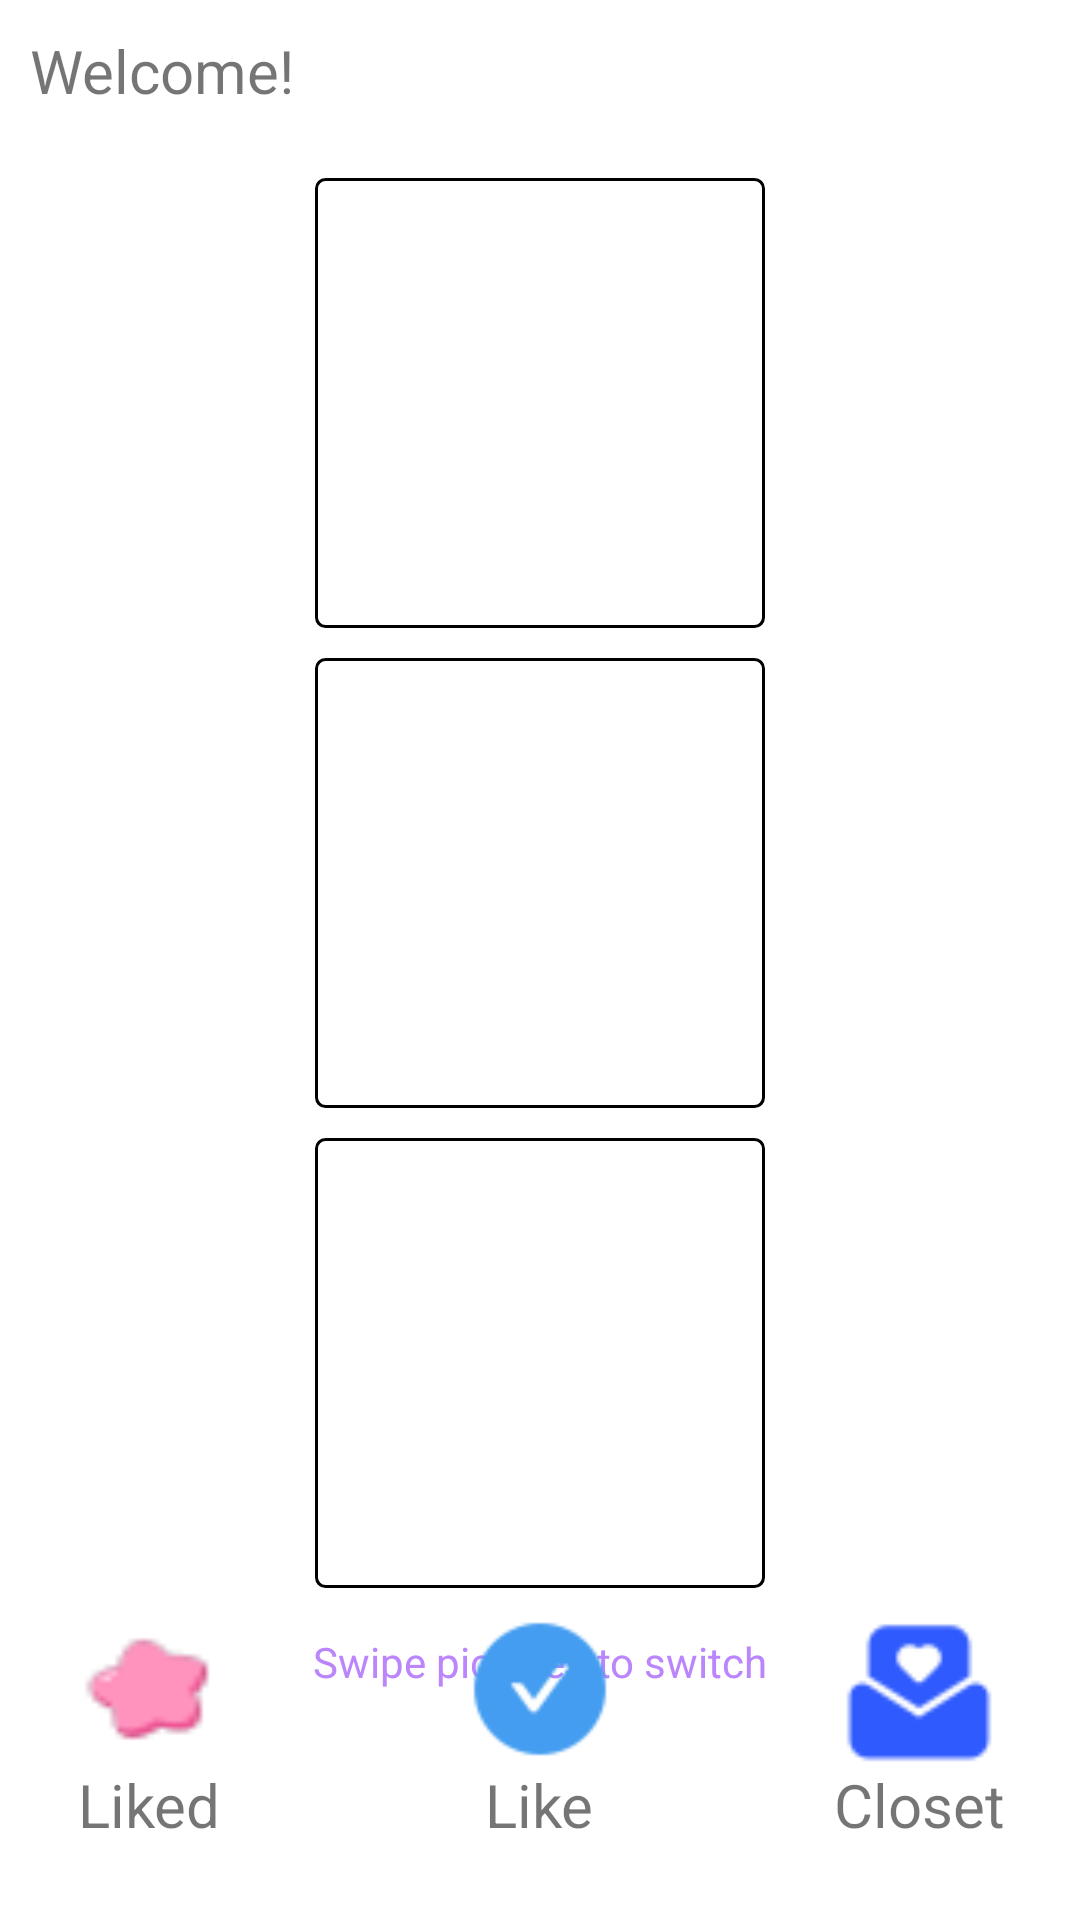

Icon click points for this 1080 × 1920 phone screenshot, format point (x, y):
yes: point (537, 1689)
